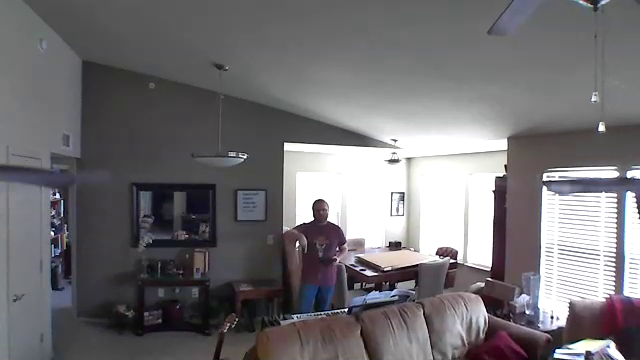down: (295, 230, 310, 253)
